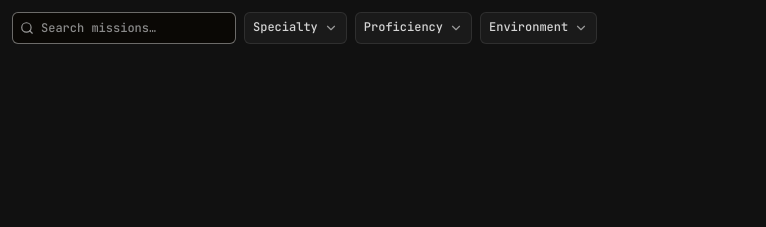
Test: FilterBar › selects several specialties at once and echoes them as removable chips
The width and height of the screenshot is (766, 227).
Click the button "Specialty".
click(295, 28)  # box [244, 12, 347, 44]
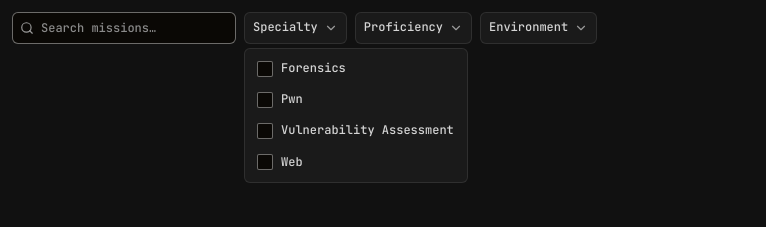
Click the checkbox labelled "Web".
click(280, 162)  # box [257, 154, 303, 170]
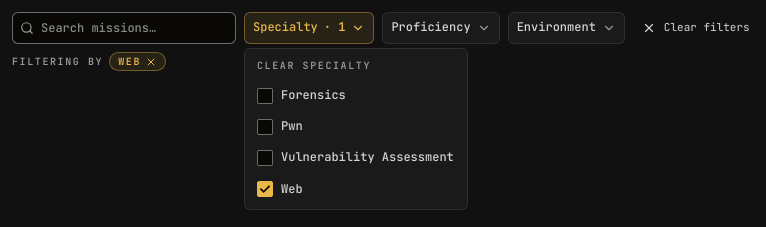
Click the checkbox labelled "Pwn".
click(280, 126)  # box [257, 118, 303, 135]
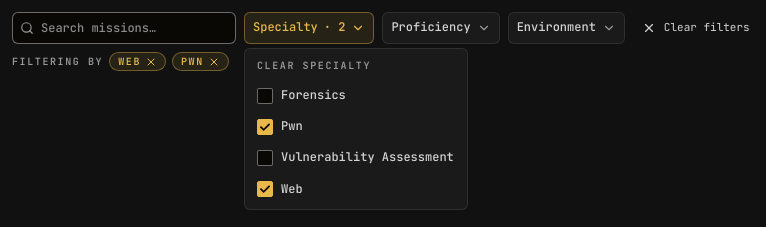
expect the button with aria-label "Remove filter Web" is shown: met, box [109, 52, 166, 71]
expect the button with aria-label "Remove filter Pwn" is shown: met, box [172, 52, 229, 71]
